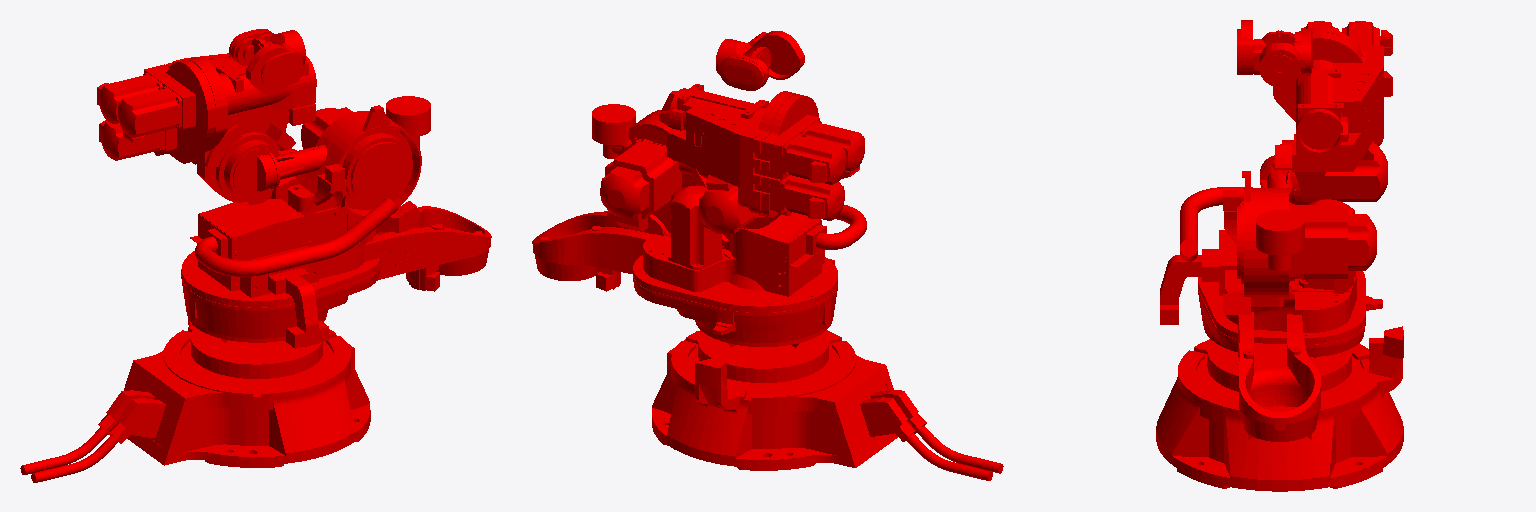
robot.urdf — NM45_Mesh:
<?xml version="1.0" ?>
<!-- =================================================================================== -->
<!-- |    This document was autogenerated by xacro from NM45_mesh.xacro                | -->
<!-- |    EDITING THIS FILE BY HAND IS NOT RECOMMENDED                                 | -->
<!-- =================================================================================== -->
<robot name="NM45_Mesh" xmlns:xacro="http://ros.org/wiki/xacro">
  <link name="base_link">
    <visual>
      <geometry>
        <mesh filename="package://comau_config/meshes/visual/NM-45_Base.STL"/>
      </geometry>
      <material name="red">
        <color rgba="1 0 0 1"/>
      </material>
    </visual>
    <collision>
      <geometry>
        <mesh filename="package://comau_config/meshes/collision/NM-45_Base_CH.stl"/>
      </geometry>
      <material name="yellow">
        <color rgba="0 1 1 1"/>
      </material>
    </collision>
  </link>
  <link name="link1">
    <visual>
      <origin rpy="0 0 0" xyz="0 0 0"/>
      <geometry>
        <mesh filename="package://comau_config/meshes/visual/NM-45_Link1.STL"/>
      </geometry>
      <material name="red">
        <color rgba="1 0 0 1"/>
      </material>
    </visual>
    <collision>
      <origin rpy="0 0 3.1416" xyz="0 0 0"/>
      <geometry>
        <mesh filename="package://comau_config/meshes/collision/NM-45_Link1_CH.stl"/>
      </geometry>
      <material name="yellow"/>
    </collision>
  </link>
  <link name="link2">
    <visual>
      <origin rpy="1.57 3.1416 3.1416" xyz="0 0 0"/>
      <geometry>
        <mesh filename="package://comau_config/meshes/visual/NM-45_Link2.STL"/>
      </geometry>
      <material name="red"/>
    </visual>
    <collision>
      <origin rpy="1.57 3.1416 3.1416" xyz="0 0 0"/>
      <geometry>
        <mesh filename="package://comau_config/meshes/collision/NM-45_Link2_CH.stl"/>
      </geometry>
      <material name="yellow"/>
    </collision>
  </link>
  <link name="link3">
    <visual>
      <origin rpy="0 0 0" xyz="0 0 0"/>
      <geometry>
        <mesh filename="package://comau_config/meshes/visual/NM-45_Link3.STL"/>
      </geometry>
      <material name="red"/>
    </visual>
    <collision>
      <origin rpy="0 0 0" xyz="0 0 0"/>
      <geometry>
        <mesh filename="package://comau_config/meshes/collision/NM-45_Link3_CH.stl"/>
      </geometry>
      <material name="yellow"/>
    </collision>
  </link>
  <link name="link4">
    <visual>
      <origin rpy="1.57 -3.1415 3.1416" xyz="0 0 0"/>
      <geometry>
        <mesh filename="package://comau_config/meshes/visual/NM-45_Link4.STL"/>
      </geometry>
      <material name="red"/>
    </visual>
    <collision>
      <origin rpy="1.57 -3.1415 3.1416" xyz="0 0 0"/>
      <geometry>
        <mesh filename="package://comau_config/meshes/collision/NM-45_Link4_CH.stl"/>
      </geometry>
      <material name="yellow"/>
    </collision>
  </link>
  <link name="link5">
    <visual>
      <origin rpy="0 0 0" xyz="0 0 0"/>
      <geometry>
        <mesh filename="package://comau_config/meshes/visual/NM-45_Link5.STL"/>
      </geometry>
      <material name="red"/>
    </visual>
    <collision>
      <origin rpy="0 0 0" xyz="0 0 0"/>
      <geometry>
        <mesh filename="package://comau_config/meshes/collision/NM-45_Link5_CH.stl"/>
      </geometry>
      <material name="yellow"/>
    </collision>
  </link>
  <link name="link6">
    <visual>
      <origin rpy="-1.57 0 0" xyz="0 0 0"/>
      <geometry>
        <mesh filename="package://comau_config/meshes/visual/NM-45_Link6.STL"/>
      </geometry>
      <material name="red"/>
    </visual>
    <collision>
      <origin rpy="-1.57 0 0" xyz="0 0 0"/>
      <geometry>
        <mesh filename="package://comau_config/meshes/collision/NM-45_Link6_CH.stl"/>
      </geometry>
      <material name="yellow"/>
    </collision>
  </link>
  <joint name="joint_1" type="revolute">
    <parent link="base_link"/>
    <child link="link1"/>
    <origin rpy="0 0 0" xyz="0 0 0.41"/>
    <axis xyz="0 0 1"/>
    <limit effort="100" lower="-3.1416" upper="3.1416" velocity="2.26"/>
  </joint>
  <joint name="joint_2" type="revolute">
    <parent link="link1"/>
    <child link="link2"/>
    <origin rpy="0 0 0" xyz="0 0 0"/>
    <axis xyz="0 1 0"/>
    <limit effort="100" lower="-1.91" upper="1.91" velocity="2.26"/>
  </joint>
  <joint name="joint_3" type="revolute">
    <parent link="link2"/>
    <child link="link3"/>
    <origin rpy="0 0 0" xyz="0 0 0.49"/>
    <axis xyz="0 0 1"/>
    <limit effort="100" lower="-2.96" upper="2.96" velocity="2.96"/>
  </joint>
  <joint name="joint_4" type="revolute">
    <parent link="link3"/>
    <child link="link4"/>
    <origin rpy="0 0 0" xyz="0 0 0"/>
    <axis xyz="0 -1 0"/>
    <limit effort="100" lower="-2.26" upper="2.26" velocity="2.96"/>
  </joint>
  <joint name="joint_5" type="revolute">
    <parent link="link4"/>
    <child link="link5"/>
    <origin rpy="0 0 0" xyz="0 0 0.420"/>
    <axis xyz="0 0 -1"/>
    <limit effort="100" lower="-3.1416" upper="3.1416" velocity="3.48"/>
  </joint>
  <joint name="joint_6" type="revolute">
    <parent link="link5"/>
    <child link="link6"/>
    <origin rpy="0 0 0" xyz="0 0 0"/>
    <axis xyz="0 -1 0"/>
    <limit effort="100" lower="-1.91" upper="1.91" velocity="3.48"/>
  </joint>
</robot>

--- Render facts (derived) ---
3 views of the same robot in one strip: view 1: azimuth 30°, elevation 25°; view 2: azimuth 150°, elevation 25°; view 3: azimuth 270°, elevation 25° (orthographic).
Robot: NM45_Mesh — 7 links, 6 joints (6 revolute); root link base_link; default pose: every joint at zero.
Visible links, largest first — view 1: link1, base_link, link3, link2, link5, link4; view 2: base_link, link1, link3, link2, link5, link4; view 3: base_link, link1, link3, link2, link5, link4.
Link boxes in pixels (box(x1,y1,x2,y2)): link1: box(181, 105, 421, 348); base_link: box(20, 319, 370, 482); link3: box(97, 53, 316, 205); link2: box(364, 206, 491, 291); link5: box(229, 29, 305, 93); link4: box(257, 96, 430, 191); base_link: box(652, 330, 1003, 480); link1: box(600, 91, 866, 346); link3: box(659, 84, 864, 233); link2: box(532, 211, 654, 291); link5: box(716, 31, 804, 90); link4: box(592, 104, 707, 178); base_link: box(1156, 326, 1403, 491); link1: box(1160, 171, 1382, 356); link3: box(1273, 21, 1392, 204); link2: box(1238, 312, 1320, 441); link5: box(1237, 20, 1312, 86); link4: box(1256, 155, 1304, 270).
Bounding box of the posed robot: 1.76 × 0.75 × 1.4 m (x, y, z).
7 mesh visuals loaded from 7 distinct referenced files (7 binary STL).
